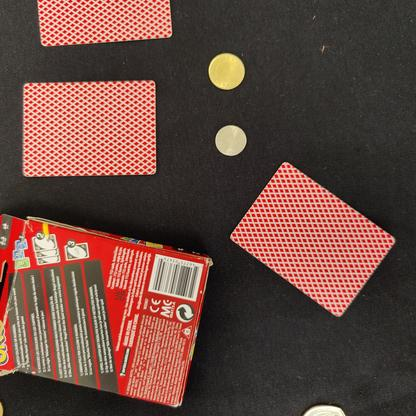card: (226, 157, 399, 322), (16, 72, 164, 184), (35, 1, 178, 52)
